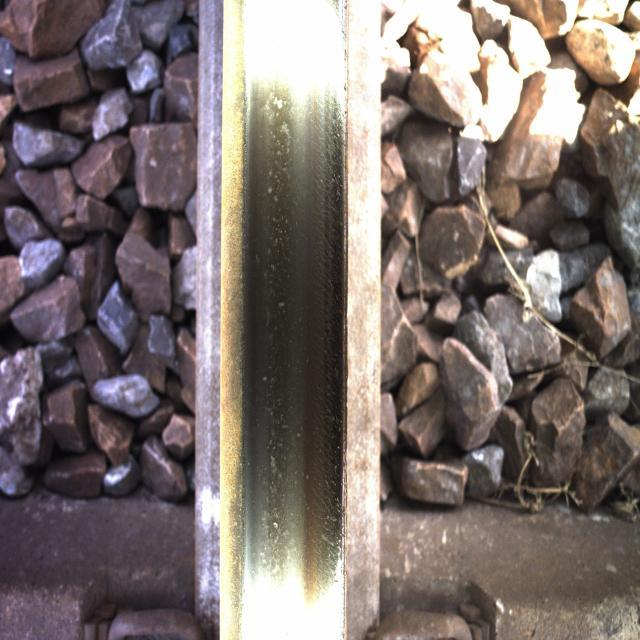normal: (238, 35, 338, 566)
